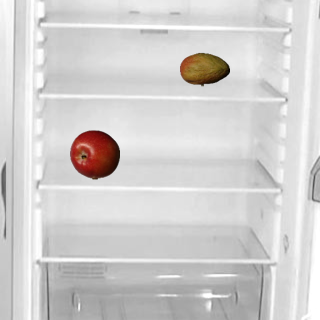Apple Braeburn: (69, 129, 119, 179)
Papaya: (179, 44, 229, 94)
